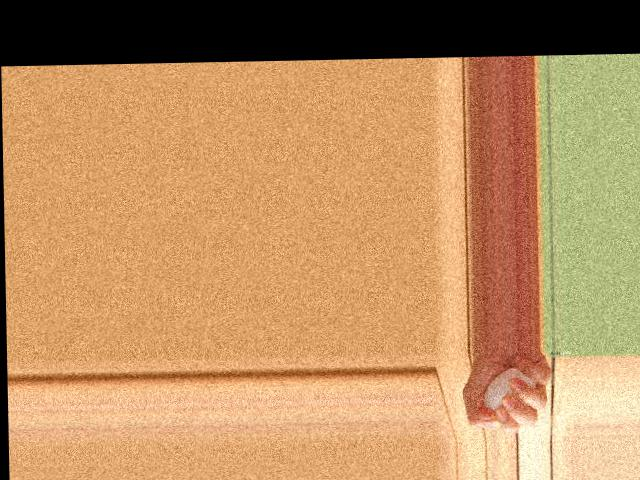egg: (483, 366, 537, 415)
